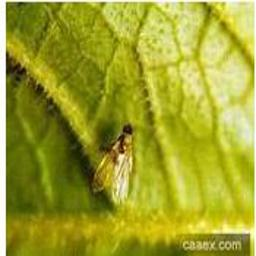liriomyza: (87, 120, 133, 205)
